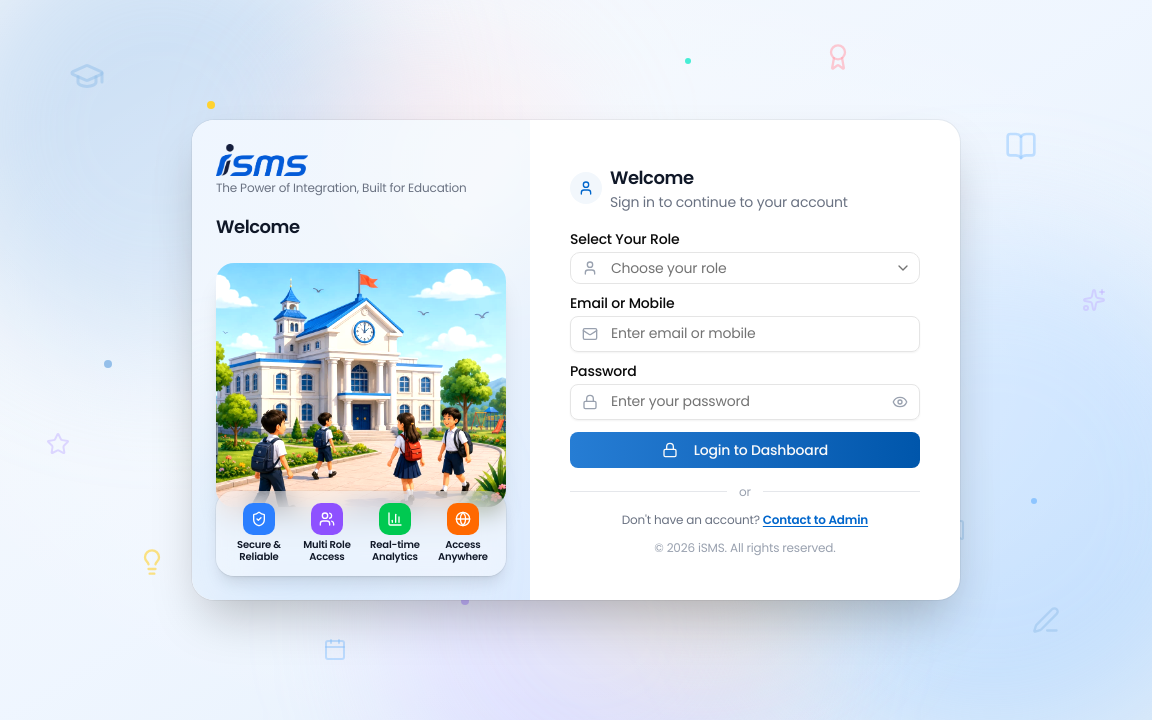
Scenario: LoginForm › displays the selected role's human label, not its raw enum value
This screenshot has width=1152, height=720.
Click the dropdown labelled "Choose your role ▼". click: (669, 268)
box: [570, 252, 920, 284]
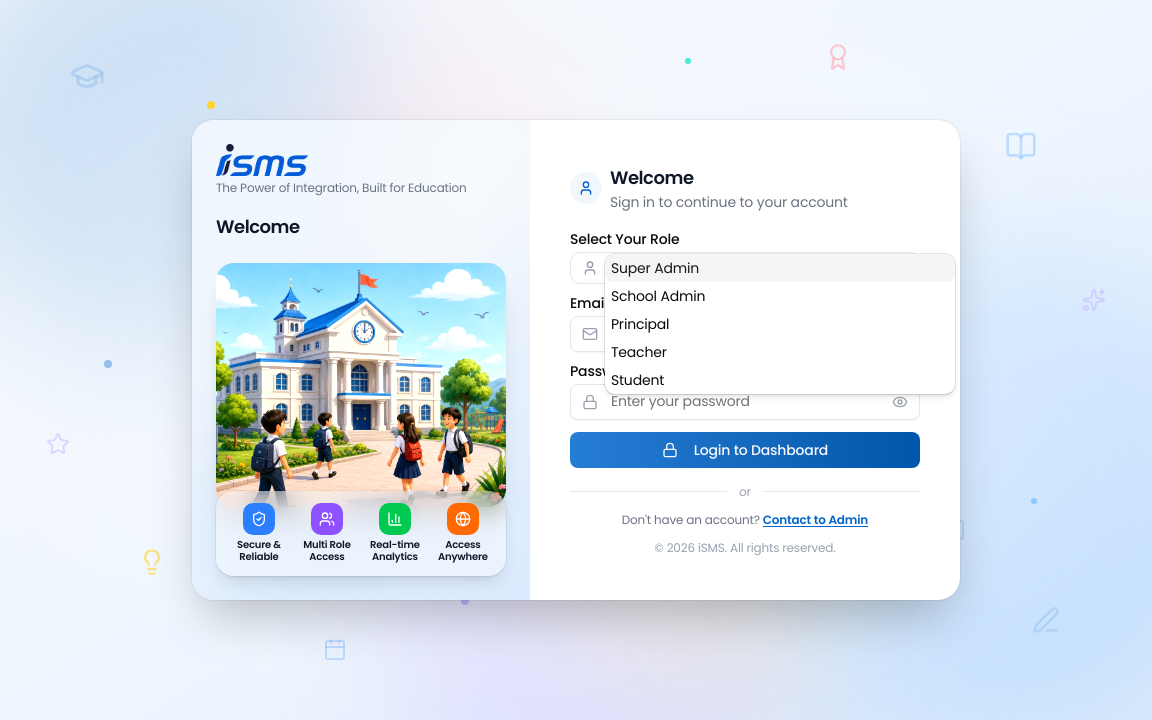
Click the option "Super Admin". click: (655, 268)
box: [605, 254, 955, 282]
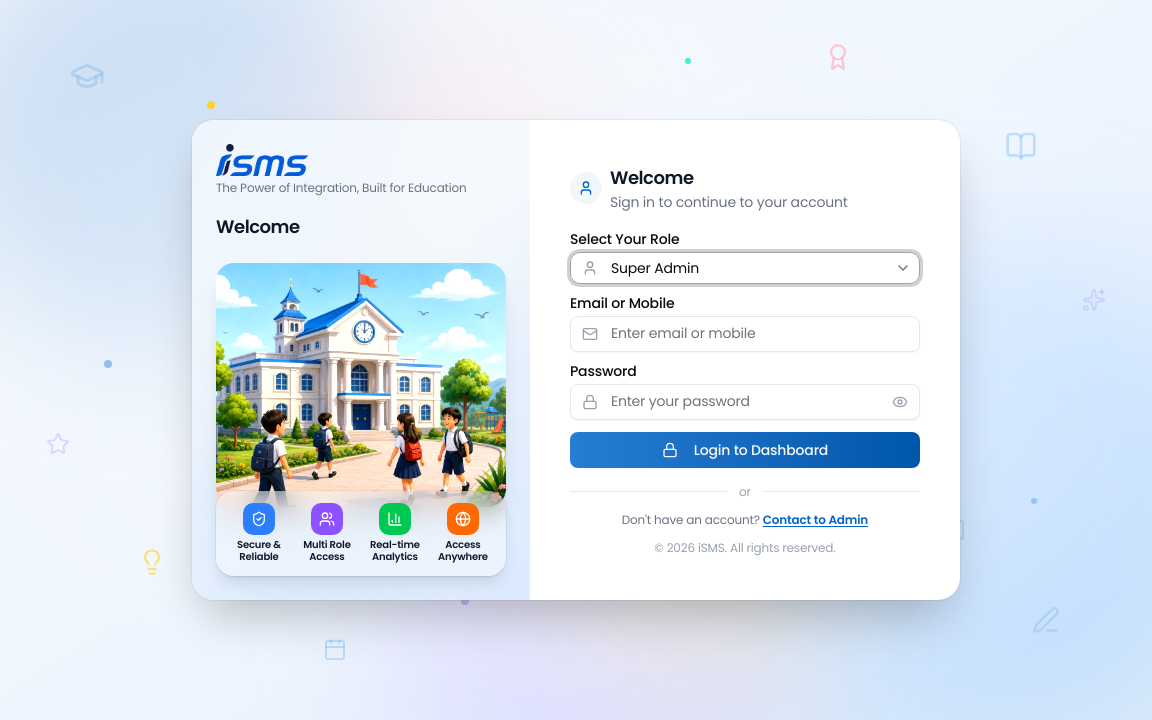
Check: the dropdown named "role" shows "Super Admin", box [570, 252, 920, 284]
